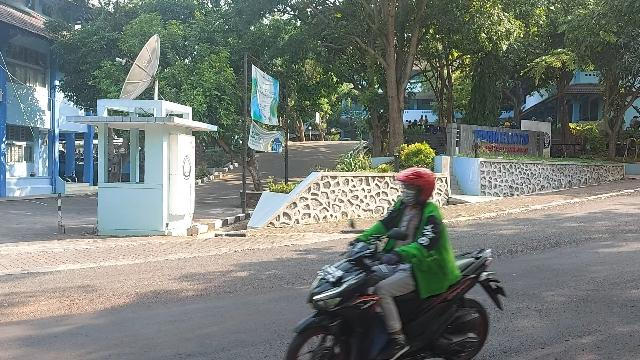helm: (398, 168, 437, 206)
motor: (287, 220, 508, 360)
